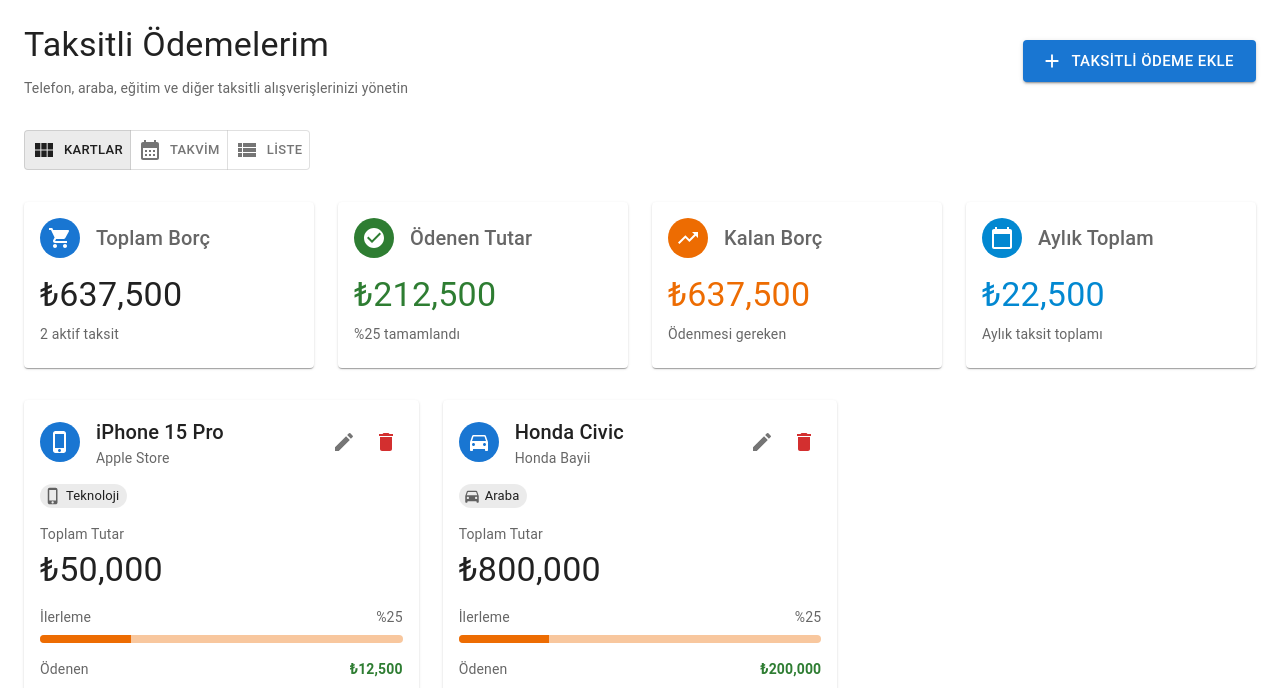
InstallmentPaymentsPage › View Mode Switching › switches to list view when list button is clicked
Expected: the heading "iPhone 15 Pro" is shown, [96,420,224,444]
Click the button "Liste": (269, 150) [227,130,310,170]
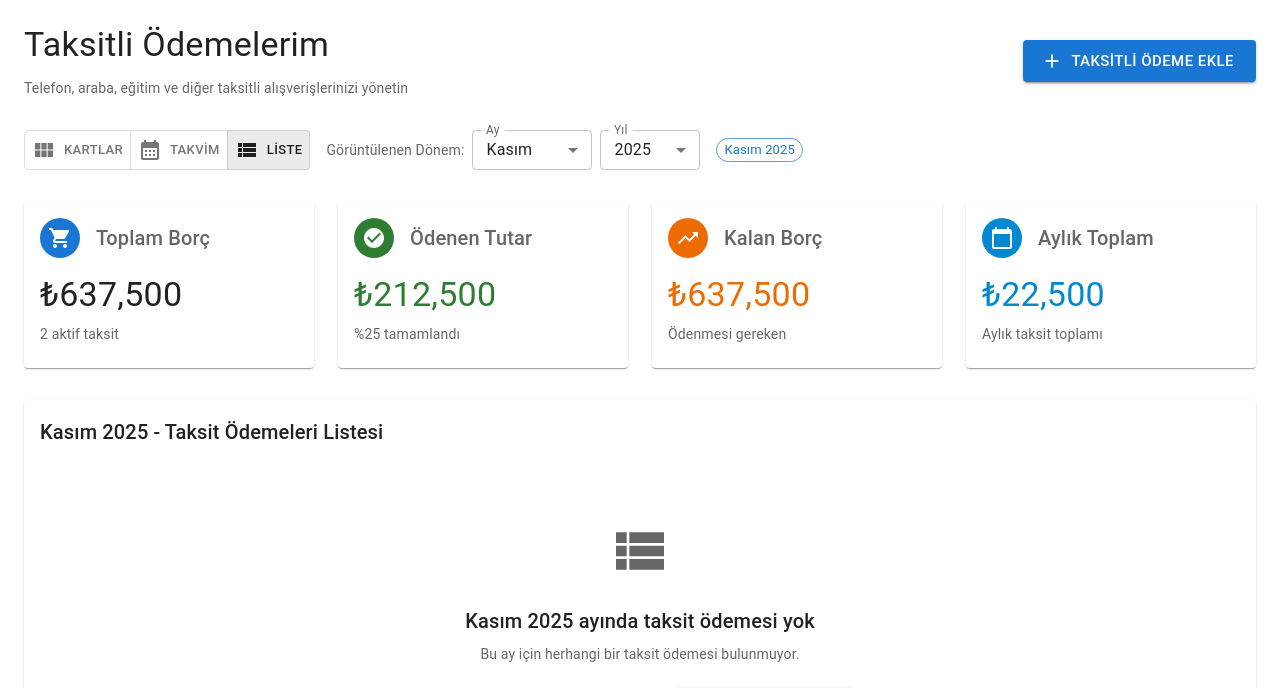
Expected: the heading "Kasım 2025 - Taksit Ödemeleri Listesi" is shown, [40,420,383,444]
